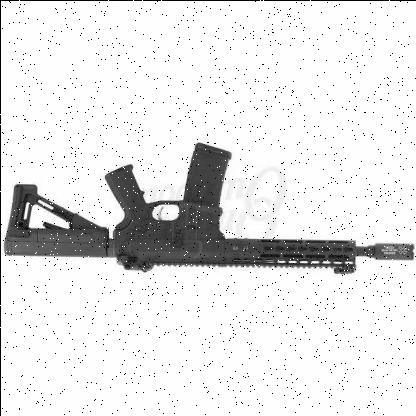rifle: (2, 128, 416, 308)
